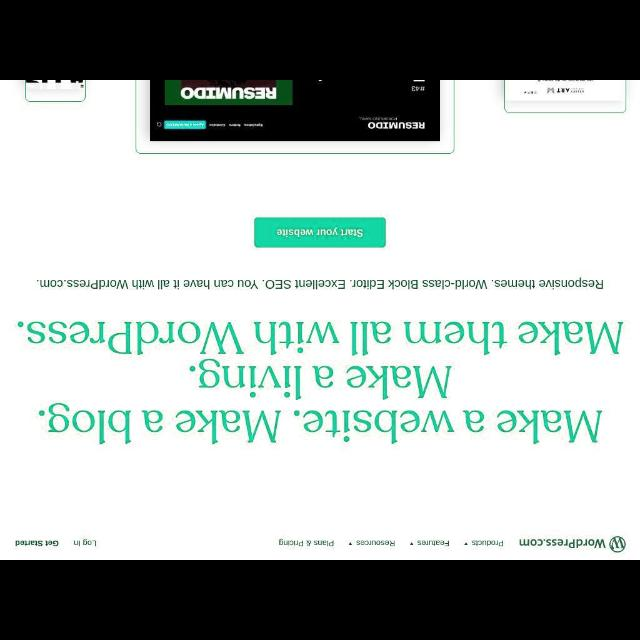icon: (409, 540, 413, 546), (348, 542, 354, 546), (464, 542, 468, 546)
image: (152, 80, 440, 142), (610, 535, 626, 553)
spinner: (347, 538, 395, 548), (464, 538, 504, 548), (409, 538, 449, 546)
text: (17, 316, 623, 446), (36, 276, 604, 290), (278, 227, 364, 240), (519, 536, 607, 548), (279, 538, 335, 548), (473, 538, 505, 548), (356, 539, 396, 547), (14, 540, 58, 546), (417, 538, 449, 546), (72, 538, 98, 546)
textbutton: (254, 218, 386, 248)
